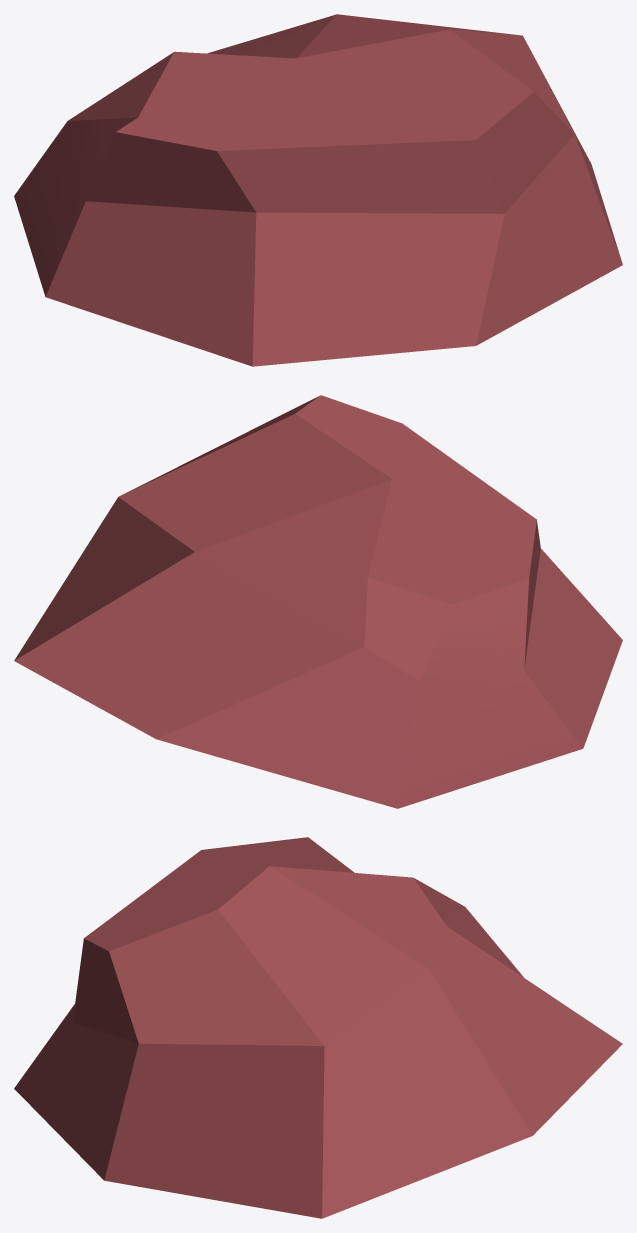
File: rockB2F.fbx
The picture shows the model from 3 angles, top to bottom: view 1: azimuth 30°, elevation 25°; view 2: azimuth 150°, elevation 25°; view 3: azimuth 270°, elevation 25°; orthographic projection. The views are drawn at different scales.
Parts seen in each view (by area): view 1: rockBF2; view 2: rockBF2; view 3: rockBF2.
Boxes of the visible parts, bbox=[...] form: rockBF2: bbox=[14, 14, 622, 366]; rockBF2: bbox=[14, 395, 622, 808]; rockBF2: bbox=[14, 837, 622, 1218].
Size of the model in its own units: 104 by 40.12 by 102.
